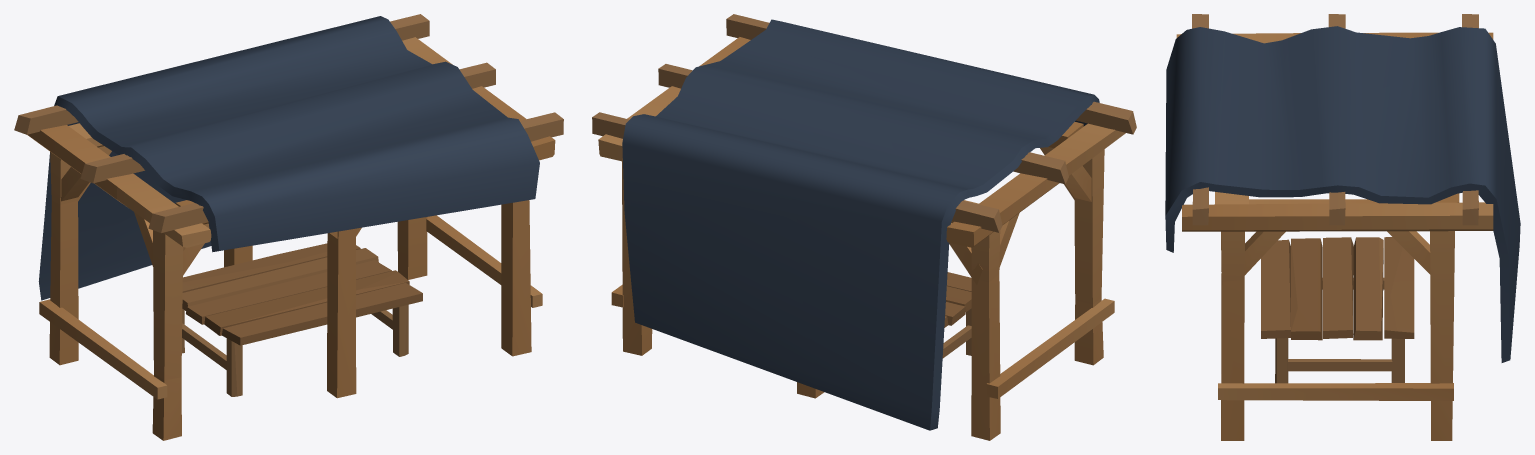
File: Market_D.fbx
3 renders of one model, left to right at view 1: azimuth 30°, elevation 25°; view 2: azimuth 150°, elevation 25°; view 3: azimuth 270°, elevation 25°, orthographic.
Parts seen in each view (by area): view 1: Market_D; view 2: Market_D; view 3: Market_D.
Boxes of the visible parts, x1,y1,x2,y2 form: Market_D: (14,14,563,440); Market_D: (592,14,1136,440); Market_D: (1165,14,1520,440).
Size of the model in its own units: 508 by 294 by 382.
